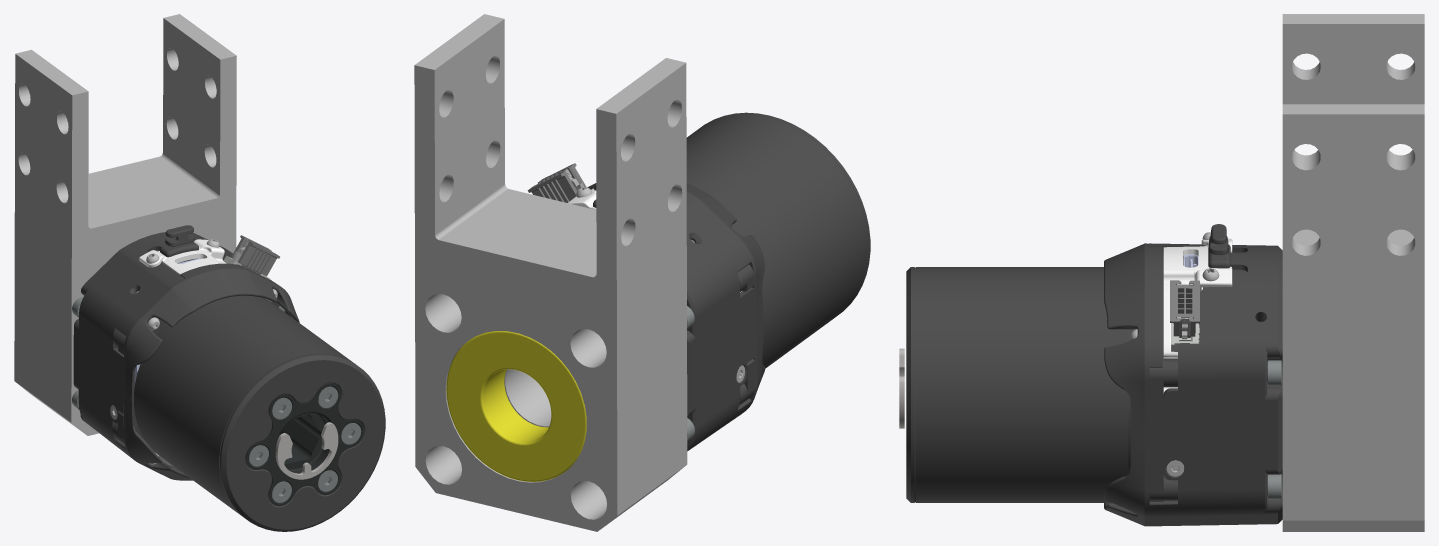
3 renders of one model, left to right at view 1: azimuth 30°, elevation 25°; view 2: azimuth 150°, elevation 25°; view 3: azimuth 270°, elevation 25°, orthographic. The views are drawn at different scales.
Parts seen in each view (by area): view 1: Solid1 (×10); view 2: Solid1 (×7); view 3: Solid1 (×8).
Boxes of the visible parts, x1,y1,x2,y2 form: Solid1 (×10): (14, 14, 385, 531); Solid1 (×7): (414, 14, 870, 531); Solid1 (×8): (906, 14, 1424, 531).
Size of the model in its own units: 0.0509 by 0.1051 by 0.1111.
